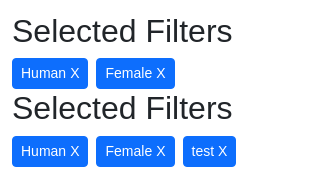
it: App test › renders selected filters and searched name
What coordinates should you click on to do the following:
click the button with aria-label "clear filter, species Human"
I would click on:
 (50, 151)
Its box is [12, 136, 88, 167].
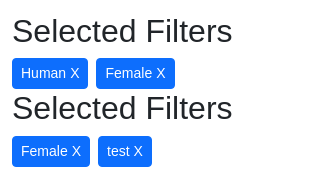
Result: the number of buttons with test id "tag" is 4 at [12, 58, 88, 89]; [96, 58, 174, 89]; [12, 136, 90, 167]; [98, 136, 152, 167]
